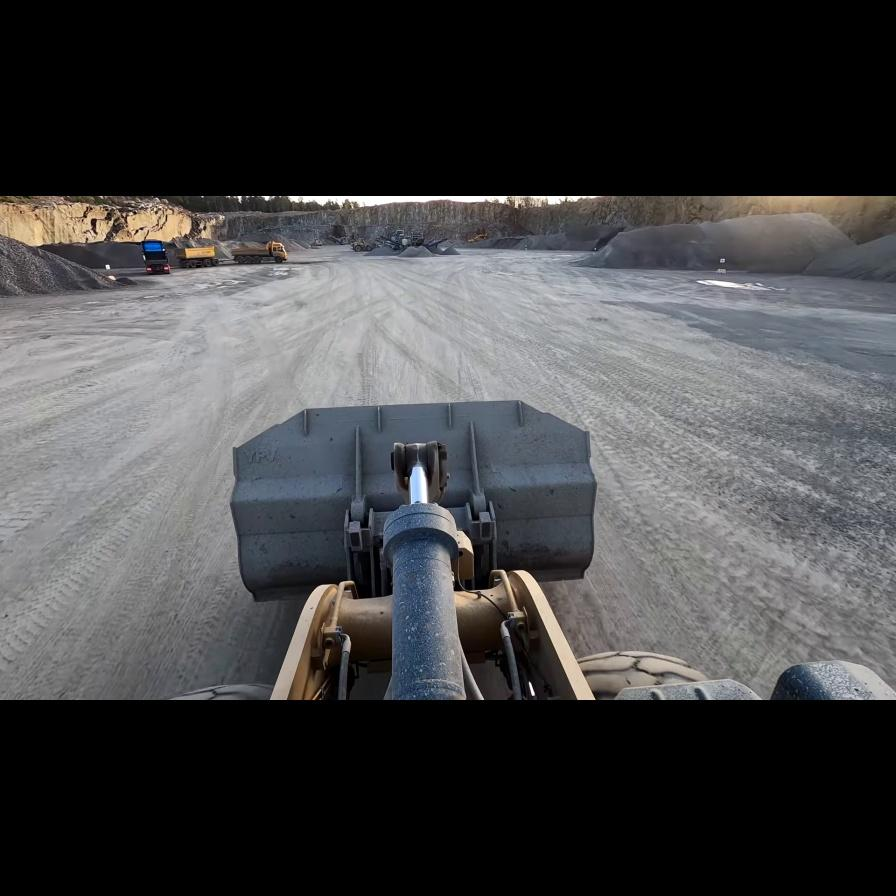anchor: (391, 441, 447, 505)
pile of gravel: (572, 212, 896, 276), (0, 227, 130, 296), (28, 239, 187, 273), (220, 209, 338, 248), (459, 225, 621, 252), (164, 230, 312, 259), (422, 237, 459, 255), (461, 236, 505, 249), (363, 244, 401, 257), (394, 246, 435, 258)
